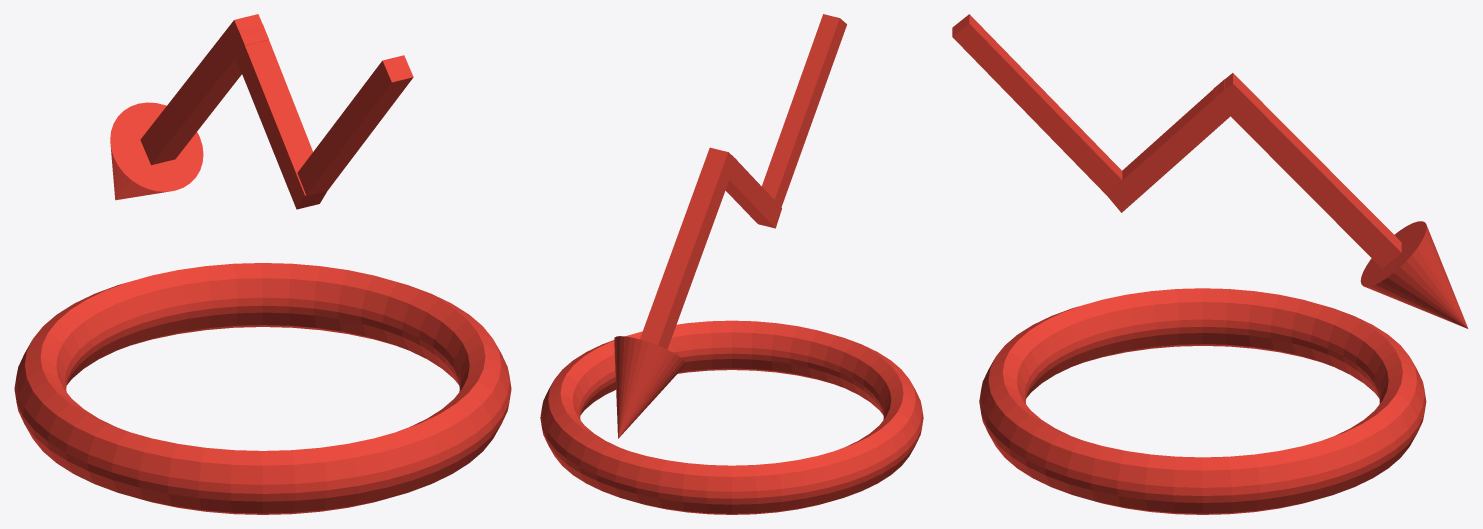
The model's file is redarrow2.glb.
The picture shows the model from 3 angles, left to right: view 1: azimuth 30°, elevation 25°; view 2: azimuth 150°, elevation 25°; view 3: azimuth 270°, elevation 25°; orthographic projection. The views are drawn at different scales.
Parts seen in each view (by area): view 1: Torus, Cube; view 2: Torus, Cube; view 3: Torus, Cube.
Boxes of the visible parts, x1,y1,x2,y2 form: Torus: (14, 263, 511, 514); Cube: (110, 14, 413, 209); Torus: (540, 320, 923, 514); Cube: (614, 14, 846, 438); Torus: (979, 288, 1426, 514); Cube: (952, 14, 1468, 328).
Size of the model in its own units: 3.53 by 3.59 by 4.08.
